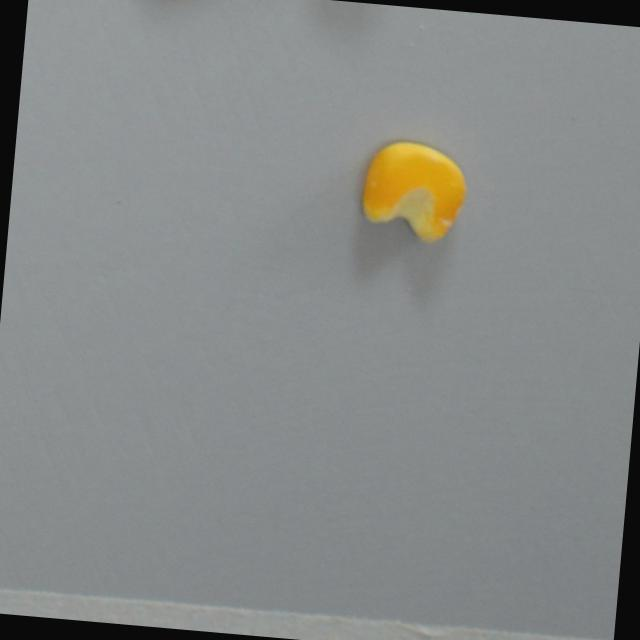no_canjicado: (358, 135, 470, 250)
